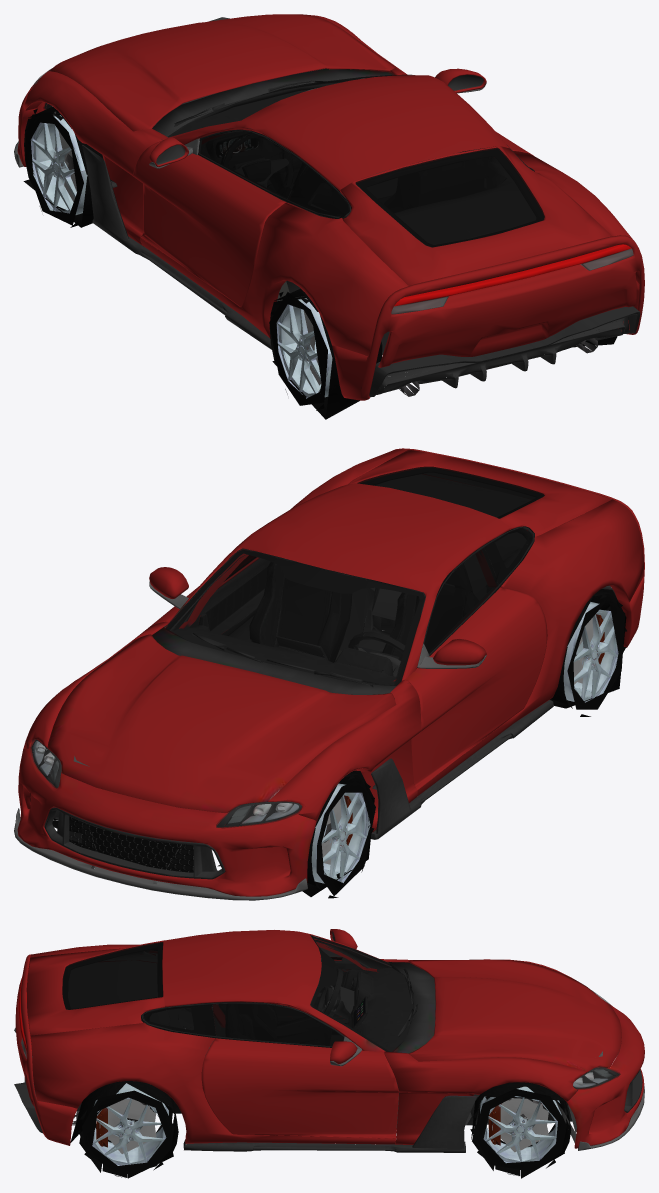
The model's file is sovereign_gt.glb.
3 views of the same model, one above another, from view 1: azimuth 30°, elevation 25°; view 2: azimuth 150°, elevation 25°; view 3: azimuth 270°, elevation 25° (orthographic). The views are drawn at different scales.
Parts seen in each view (by area): view 1: body, door_FL, wheel_RL, wheel_FL, steering_wheel; view 2: body, door_FL, wheel_RL, wheel_FL, door_FR, steering_wheel; view 3: body, door_FR, wheel_RR, wheel_FR, door_FL, steering_wheel.
Part boxes in pixels (<box>): body: <box>14,14,644,400</box>; door_FL: <box>133,129,307,306</box>; wheel_RL: <box>269,288,382,419</box>; wheel_FL: <box>23,106,103,227</box>; steering_wheel: <box>221,133,293,187</box>; body: <box>14,448,644,900</box>; door_FL: <box>404,546,547,790</box>; wheel_RL: <box>549,589,626,716</box>; wheel_FL: <box>302,770,375,898</box>; door_FR: <box>148,555,270,641</box>; steering_wheel: <box>348,631,404,672</box>; body: <box>14,929,644,1152</box>; door_FR: <box>201,1001,399,1138</box>; wheel_RR: <box>70,1081,178,1178</box>; wheel_FR: <box>470,1082,571,1178</box>; door_FL: <box>219,947,390,1034</box>; steering_wheel: <box>316,968,343,1023</box>.
Bounding box in the file's own units: 2.28 × 1.38 × 4.73.
19 materials, 7 textured.
